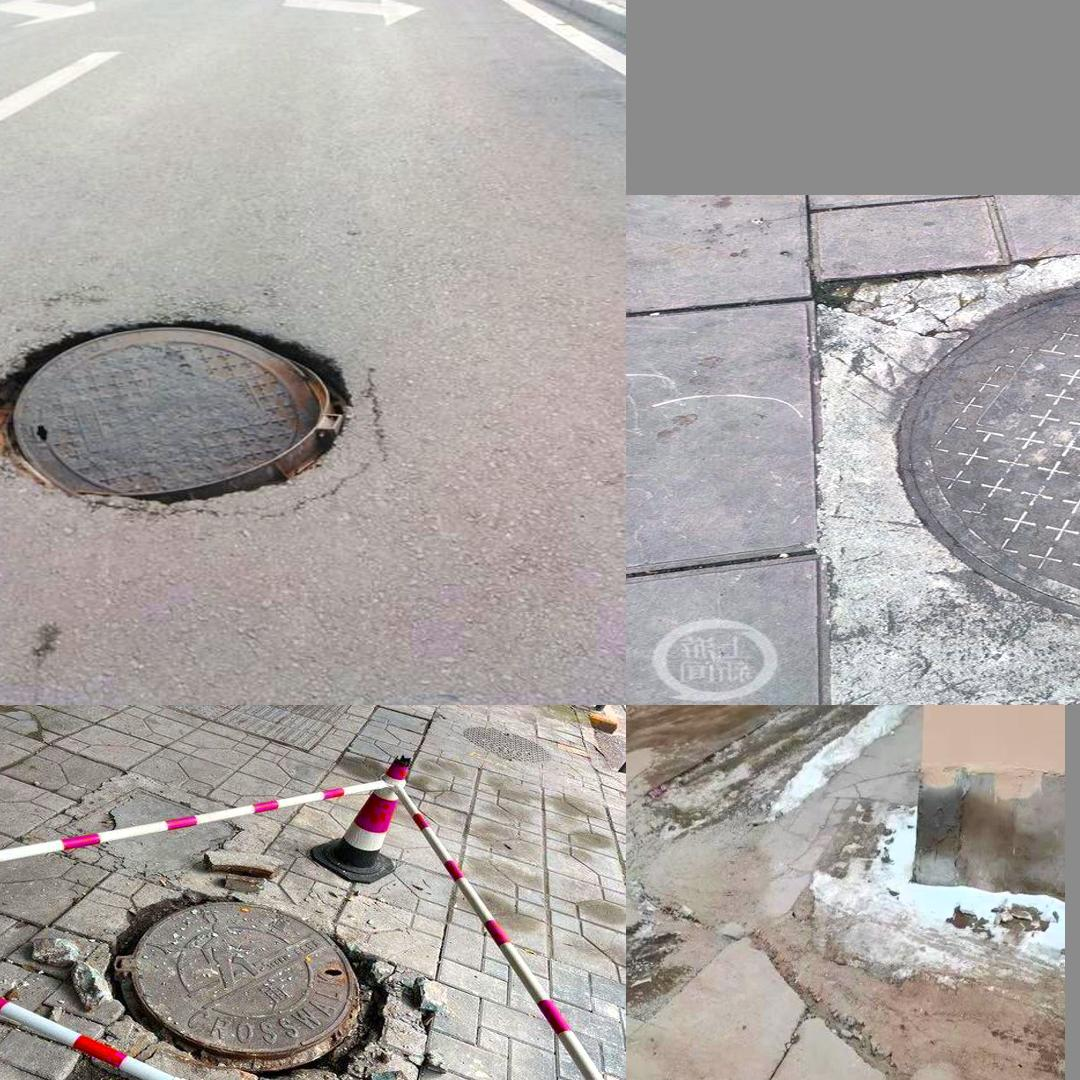circle: (788, 225, 1080, 693), (0, 304, 412, 521), (51, 871, 423, 1080)
